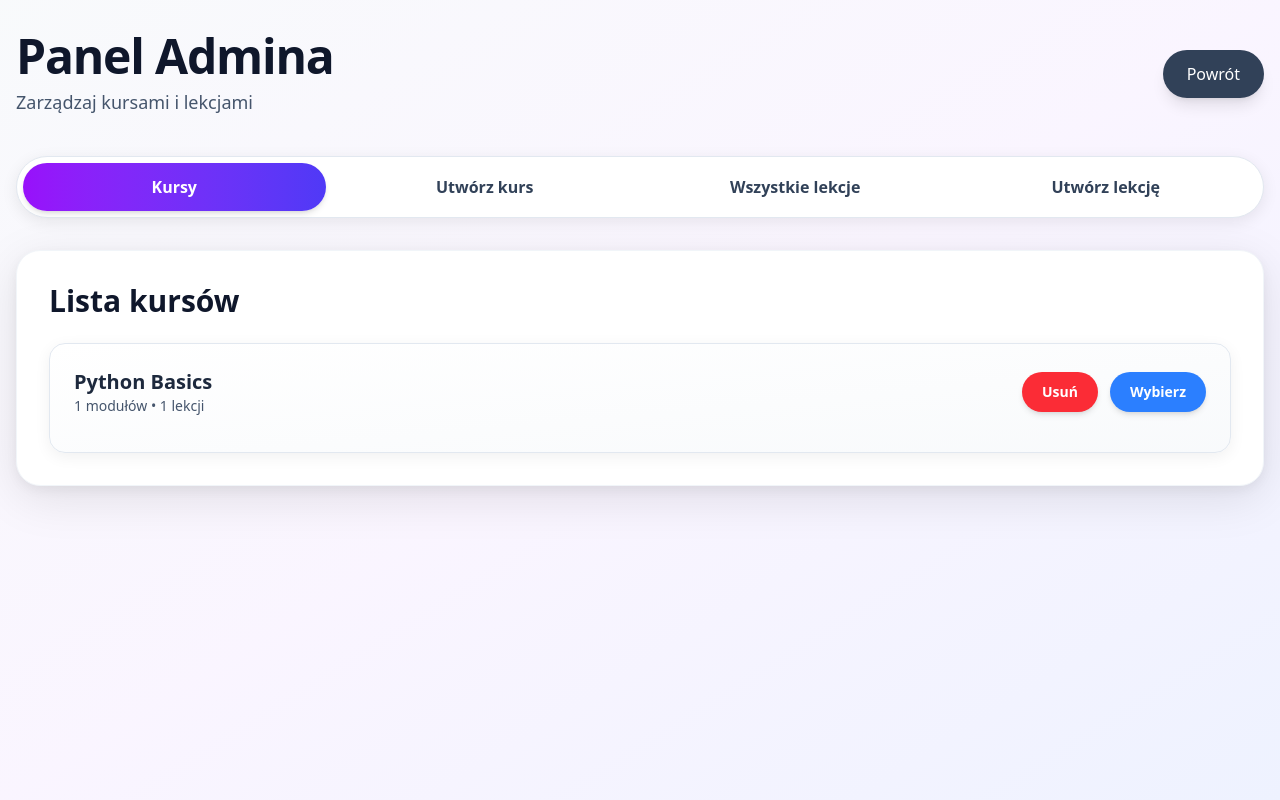
Test: AdminPanel › Tab Navigation › switches to lessons tab and shows all lessons
The width and height of the screenshot is (1280, 800).
Check: the heading "Python Basics" is shown, box 74,368 -> 212,396
Click the button "Wszystkie lekcje".
click(795, 187)  # box 644,163 -> 946,211
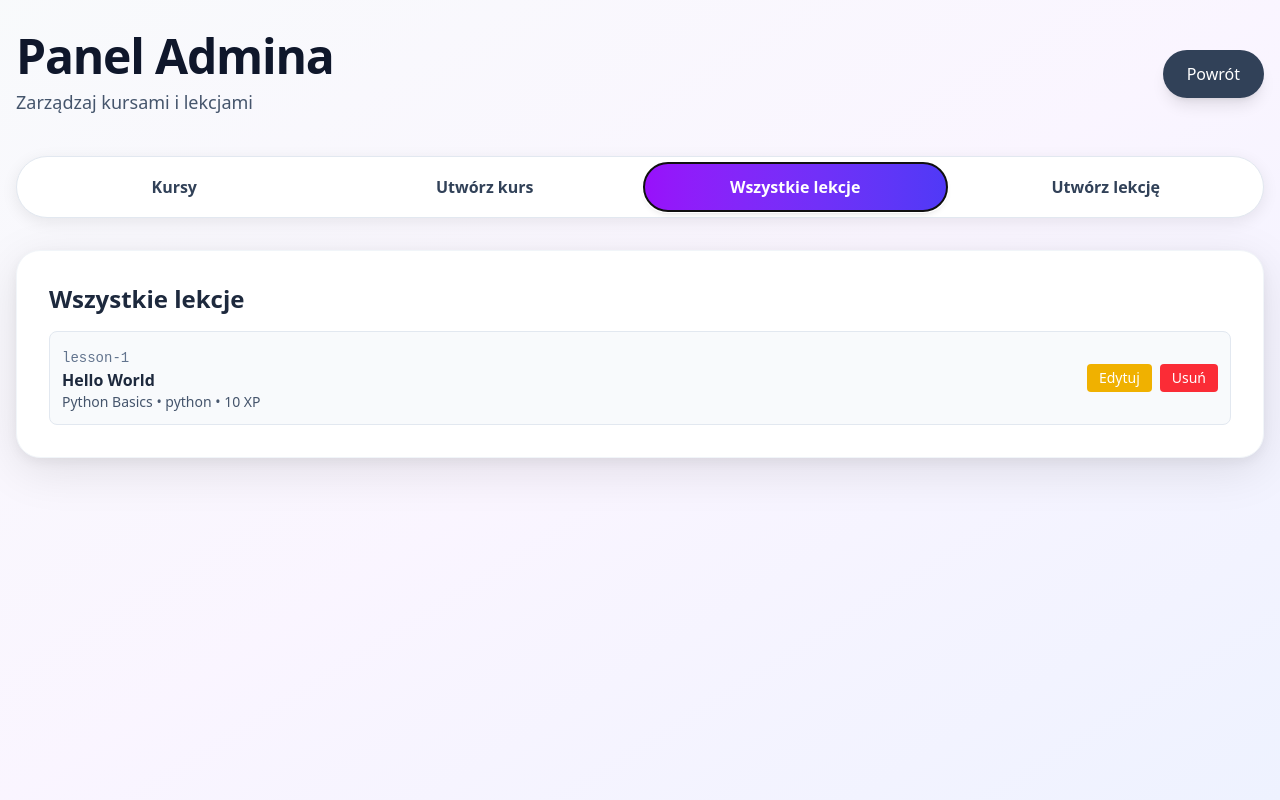
Check: the heading "Hello World" is shown, box 62,369 -> 155,391
Check: the text "Python Basics • python • 10 XP" is shown, box 62,392 -> 260,412
